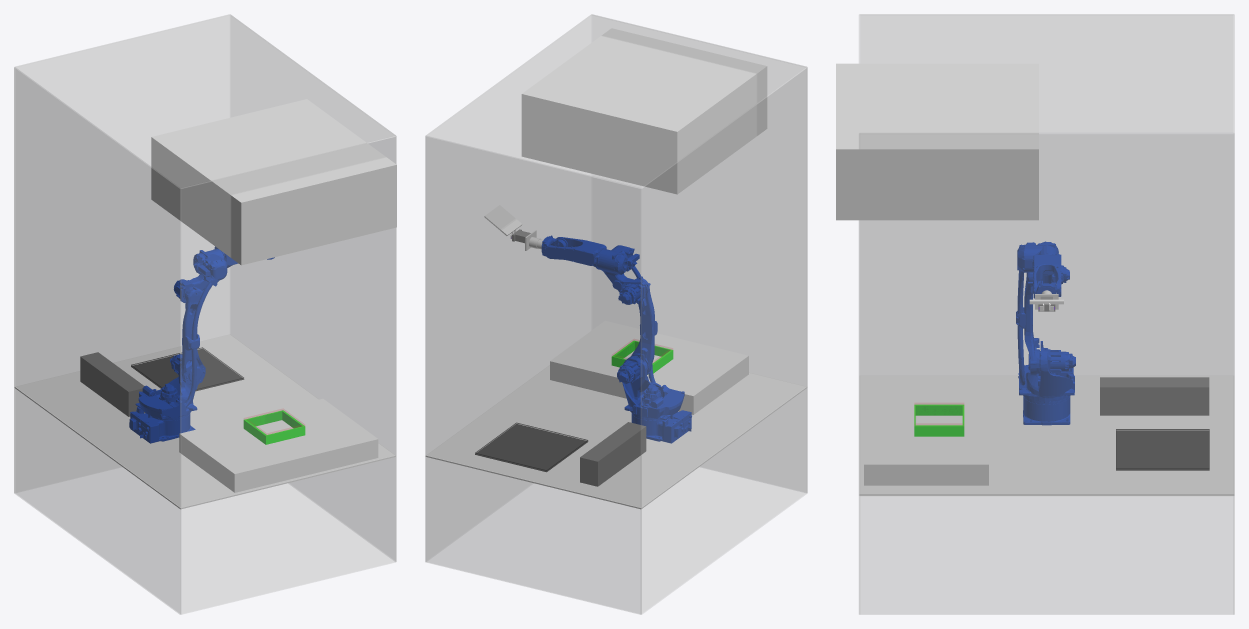
Rendered from Sumitomo_Riko_PW1_20180925-Shimizu.mujin.dae.
3 views of the same model, side by side, from view 1: azimuth 30°, elevation 25°; view 2: azimuth 150°, elevation 25°; view 3: azimuth 270°, elevation 25° (orthographic). The views are drawn at different scales.
Parts seen in each view (by area): view 1: base (×9), camera_cover, floor_prohibit, L1, L3, L0, L2 (×2); view 2: base (×9), camera_cover, floor_prohibit, L1, L3, L0, L4, L2, Link0; view 3: base (×9), camera_cover, floor_prohibit, L1, L0, L3, L4, L2.
Part boxes in pixels (box(x1,y1,x2,y2)): base (×9): box(14, 14, 396, 614); camera_cover: box(151, 99, 396, 265); floor_prohibit: box(179, 399, 378, 492); L1: box(135, 354, 197, 418); L3: box(174, 249, 227, 308); L0: box(129, 407, 195, 443); L2 (×2): box(181, 287, 204, 366); base (×9): box(425, 14, 807, 614); camera_cover: box(521, 28, 766, 194); floor_prohibit: box(550, 321, 748, 414); L1: box(617, 353, 684, 419); L3: box(596, 245, 645, 304); L0: box(631, 410, 691, 443); L4: box(544, 237, 606, 269); L2: box(637, 310, 657, 356); Link0: box(484, 205, 522, 235); base (×9): box(859, 14, 1234, 614); camera_cover: box(836, 63, 1038, 220); floor_prohibit: box(864, 385, 988, 485); L1: box(1018, 341, 1075, 404); L0: box(1023, 396, 1070, 425); L3: box(1017, 241, 1069, 283); L4: box(1033, 253, 1061, 298); L2: box(1016, 300, 1039, 344).
Bounding box in the file's own units: 1.95 × 2.56 × 3.41.
